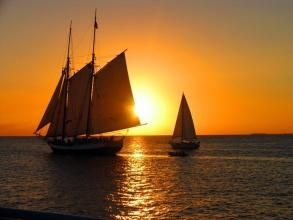fanchuan: (35, 6, 146, 158), (166, 86, 206, 149)
